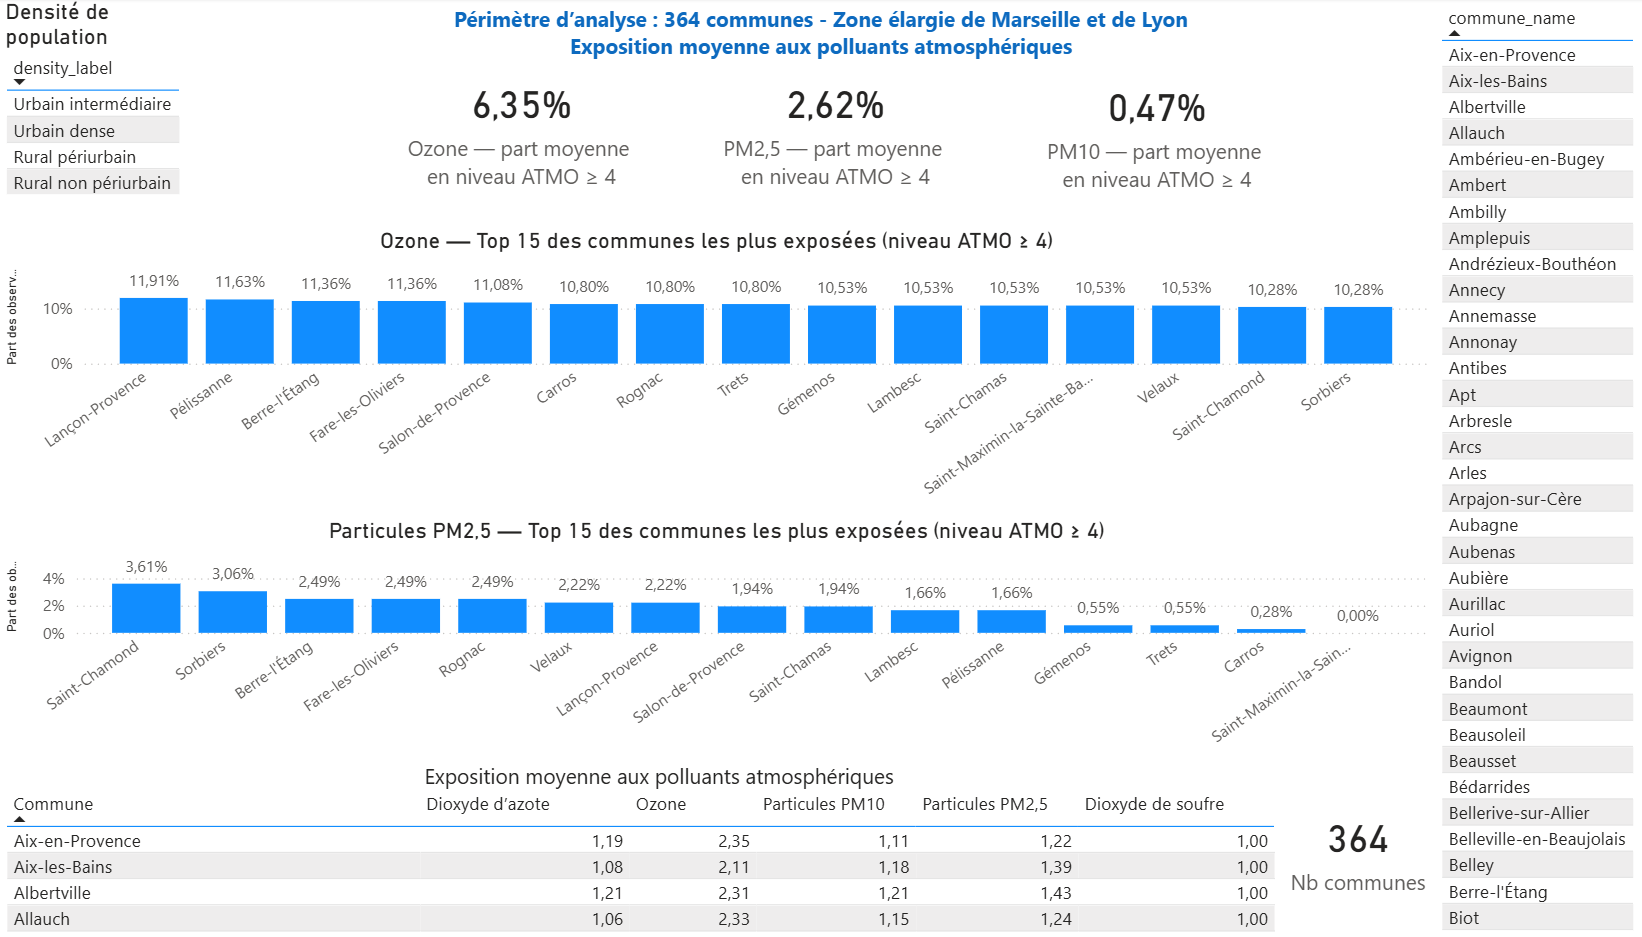

The dashboard page shown, as its layout file describes it:
{"tool":"powerbi","page":{"name":"Pollution","canvas":[1280,720],"ordinal":2},"visuals":[{"type":"tableEx","title":"Densité de population","fields":{"Values":["terrizoom.density_label"]},"box":[0,0,161.1,159.5],"z":0},{"type":"tableEx","fields":{"Values":["terrizoom.commune_name"]},"box":[1097.4,0,182.6,719.8],"z":1},{"type":"card","title":"------- Ozone ------- % niveau ATMO ≥ 4 (moy.)","fields":{"Values":["Avg(terrizoom.o3_level_share_ge4)"]},"box":[301.3,0,196.5,159.8],"z":2},{"type":"card","title":"- Particules fines < 2,5 µm - % niveau ATMO ≥ 4 (moy.)","fields":{"Values":["Avg(terrizoom.pm25_level_share_ge4)"]},"box":[542.1,0,195,159.8],"z":3},{"type":"card","title":"- Particules fines < 10 µm - % niveau ATMO ≥ 4 (moy.)","fields":{"Values":["Avg(terrizoom.pm10_level_share_ge4)"]},"box":[789.9,0,191.2,159.8],"z":4},{"type":"clusteredColumnChart","title":"Ozone — Top 15 des communes les plus exposées (niveau ATMO ≥ 4)","fields":{"Category":["terrizoom.commune_name"],"Y":["Avg(terrizoom.o3_level_share_ge4)"]},"box":[0,152.2,1097.3,219.5],"z":5},{"type":"tableEx","fields":{"Values":["terrizoom.commune_name","Avg(terrizoom.no2_level_mean)","Avg(terrizoom.o3_level_mean)","Avg(terrizoom.pm10_level_mean)","Avg(terrizoom.pm25_level_mean)","Avg(terrizoom.so2_level_mean)"]},"box":[0,579.6,994.8,140.7],"z":6},{"type":"clusteredColumnChart","title":"Particules PM2,5 — Top 15 des communes les plus exposées (niveau ATMO ≥ 4)","fields":{"Category":["terrizoom.commune_name"],"Y":["Avg(terrizoom.pm25_level_share_ge4)"]},"box":[0,360.1,1097.3,186.6],"z":7},{"type":"card","fields":{"Values":["terrizoom.Nb communes"]},"box":[981,592.6,116.2,118.5],"z":8},{"type":"textbox","box":[320.4,549,563.5,30.6],"z":9},{"type":"textbox","box":[357.8,13,563.5,30.6],"z":10}]}

Visuals, with their boxes in screenshot pixels (x1, y1, x2, y2), scaled from the page's 1280x720 canvas onto the 1642x937 screenshot:
"Densité de population" tableEx: (x1=0, y1=0, x2=207, y2=208)
tableEx - terrizoom.commune_name: (x1=1408, y1=0, x2=1641, y2=936)
"------- Ozone ------- % niveau ATMO ≥ 4 (moy.)" card: (x1=387, y1=0, x2=639, y2=208)
"- Particules fines < 2,5 µm - % niveau ATMO ≥ 4 (moy.)" card: (x1=695, y1=0, x2=946, y2=208)
"- Particules fines < 10 µm - % niveau ATMO ≥ 4 (moy.)" card: (x1=1013, y1=0, x2=1259, y2=208)
"Ozone — Top 15 des communes les plus exposées (niveau ATMO ≥ 4)" clusteredColumnChart: (x1=0, y1=198, x2=1408, y2=484)
tableEx - terrizoom.commune_name x Avg(terrizoom.no2_level_mean): (x1=0, y1=754, x2=1276, y2=936)
"Particules PM2,5 — Top 15 des communes les plus exposées (niveau ATMO ≥ 4)" clusteredColumnChart: (x1=0, y1=469, x2=1408, y2=711)
card - terrizoom.Nb communes: (x1=1258, y1=771, x2=1408, y2=925)
textbox: (x1=411, y1=714, x2=1134, y2=754)
textbox: (x1=459, y1=17, x2=1182, y2=57)
